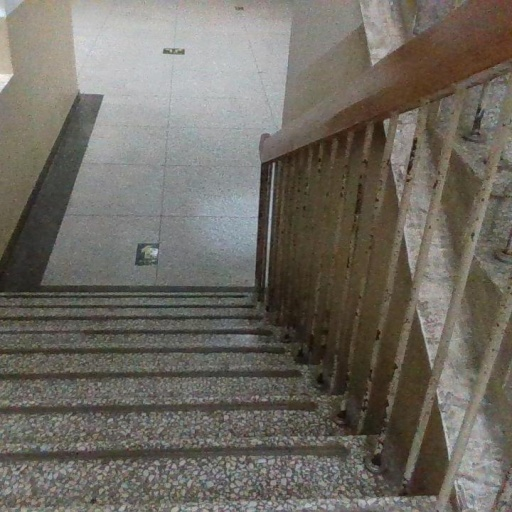Stairs: (0, 288, 433, 512)
